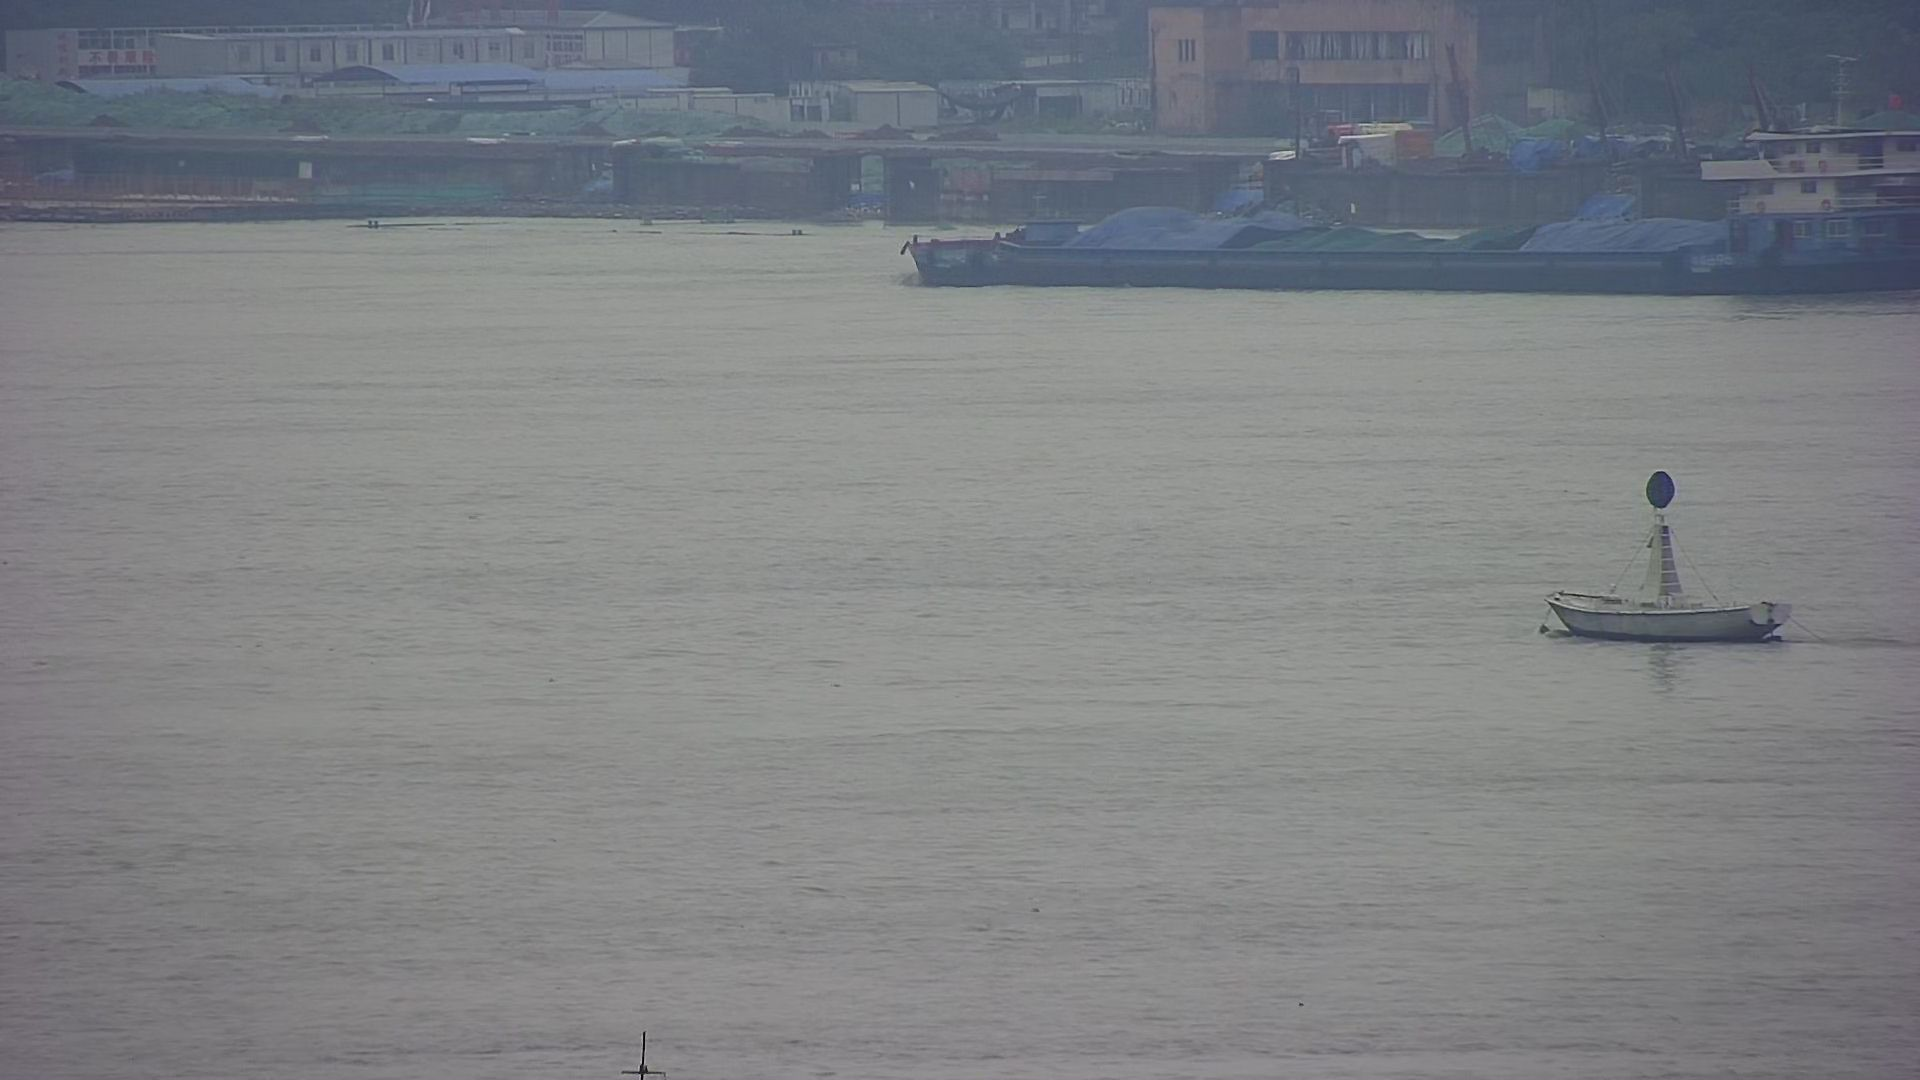boat: (1540, 467, 1799, 640)
ship: (898, 63, 1920, 297)
